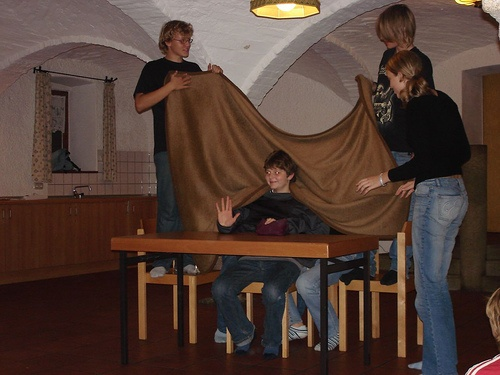head: (373, 3, 419, 53), (385, 51, 427, 100), (155, 18, 197, 67), (260, 151, 299, 190)
person: (361, 45, 472, 374), (206, 148, 307, 355), (134, 18, 208, 230), (216, 146, 326, 239), (361, 3, 434, 134)
